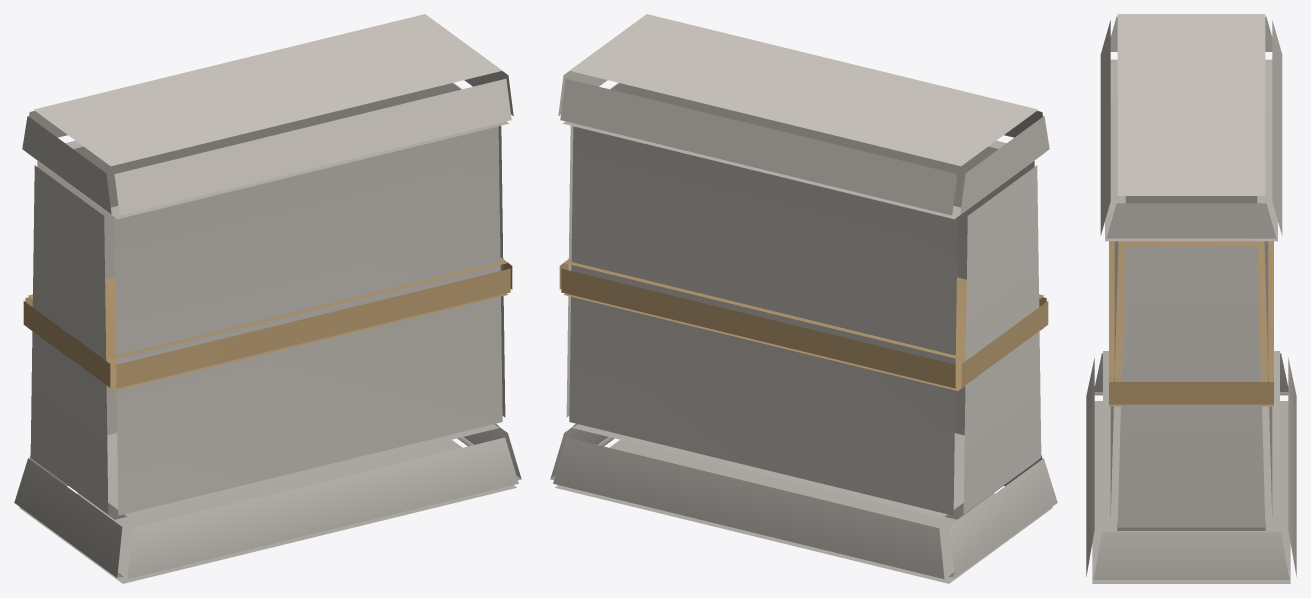
The model's file is wall_lv1_connector_lod2.glb.
3 renders of one model, left to right at view 1: azimuth 30°, elevation 25°; view 2: azimuth 150°, elevation 25°; view 3: azimuth 270°, elevation 25°, orthographic. The views are drawn at different scales.
Visible parts, largest first — view 1: wall_lv1_connector.001; view 2: wall_lv1_connector.001; view 3: wall_lv1_connector.001.
Boxes of the visible parts, x1,y1,x2,y2 form: wall_lv1_connector.001: (14, 14, 521, 583); wall_lv1_connector.001: (550, 14, 1057, 583); wall_lv1_connector.001: (1086, 14, 1296, 583).
Size of the model in its own units: 1.59 by 1.53 by 0.7515.
